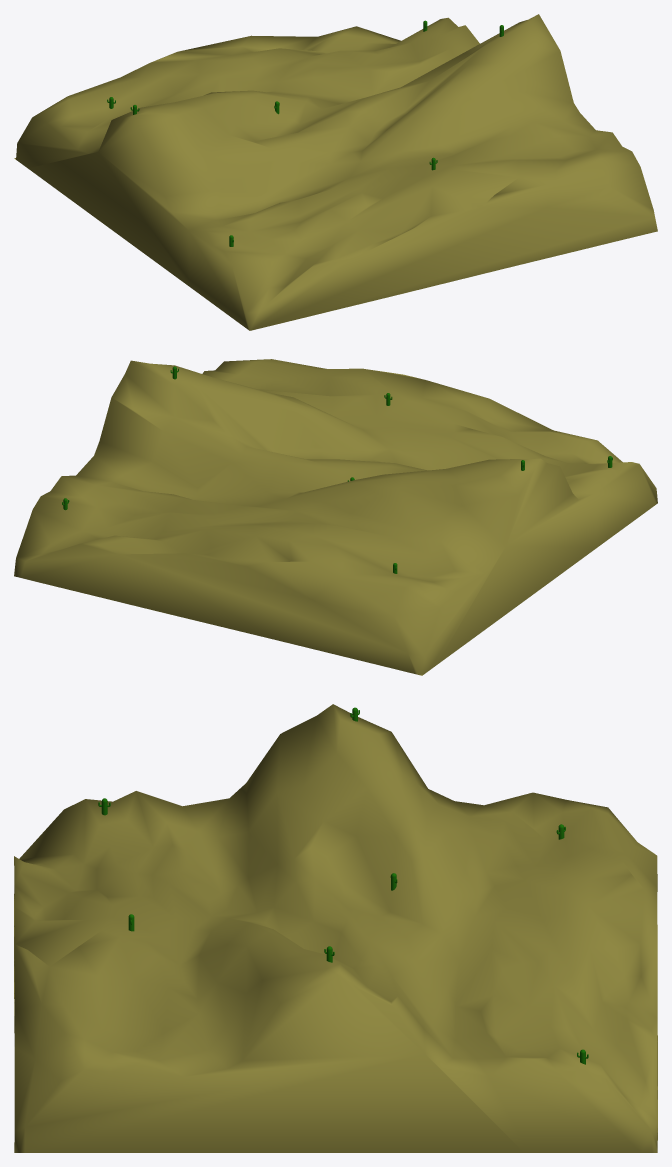
The model's file is desert.glb.
3 renders of one model, top to bottom at view 1: azimuth 30°, elevation 25°; view 2: azimuth 150°, elevation 25°; view 3: azimuth 270°, elevation 25°, orthographic. The views are drawn at different scales.
Parts seen in each view (by area): view 1: Desert; view 2: Desert; view 3: Desert.
Part boxes in pixels (bbox=[...]): Desert: bbox=[14, 14, 657, 330]; Desert: bbox=[14, 359, 657, 675]; Desert: bbox=[14, 704, 657, 1152].
Bounding box in the file's own units: 20 × 6.17 × 20.
